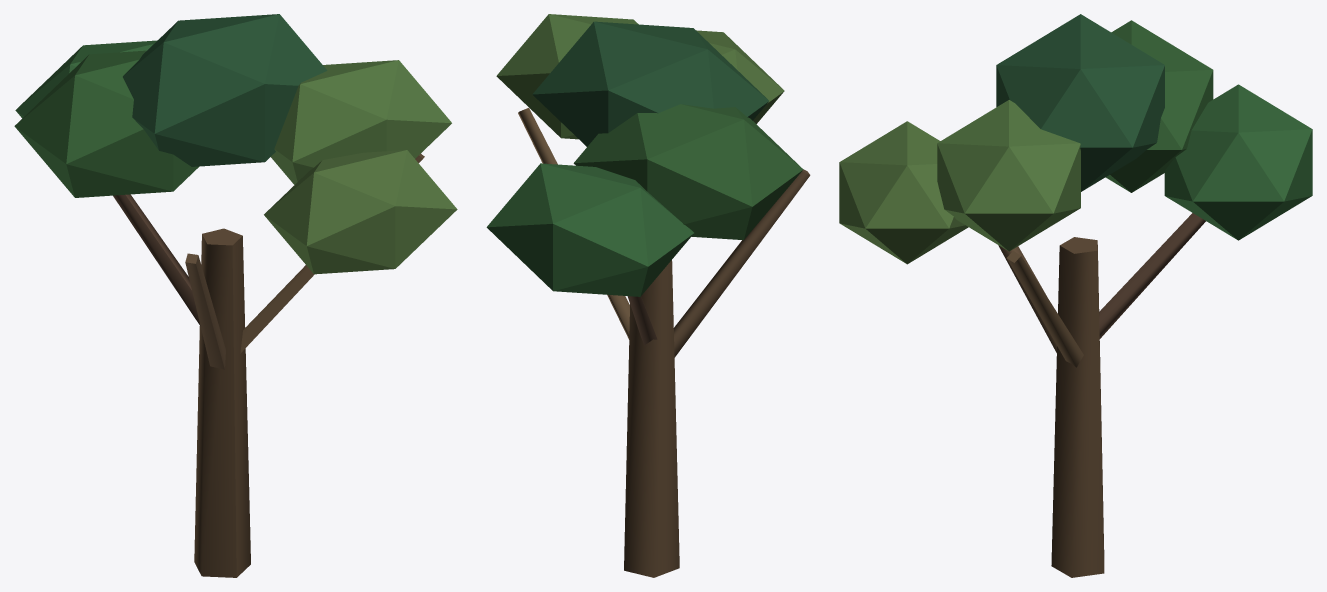
Rendered from broadleaf-spreading.far.glb.
The picture shows the model from 3 angles, left to right: view 1: azimuth 30°, elevation 25°; view 2: azimuth 150°, elevation 25°; view 3: azimuth 270°, elevation 25°; orthographic projection. The views are drawn at different scales.
Visible parts, largest first — view 1: foliage, wood; view 2: foliage, wood; view 3: foliage, wood.
Boxes of the visible parts, left/top/right/bottom form: foliage: left=14, top=14, right=457, bottom=274; wood: left=113, top=154, right=424, bottom=577; foliage: left=486, top=14, right=803, bottom=296; wood: left=518, top=108, right=810, bottom=577; foliage: left=839, top=14, right=1312, bottom=264; wood: left=998, top=213, right=1205, bottom=577.
Bounding box in the file's own units: 7.61 × 12 × 9.8.
